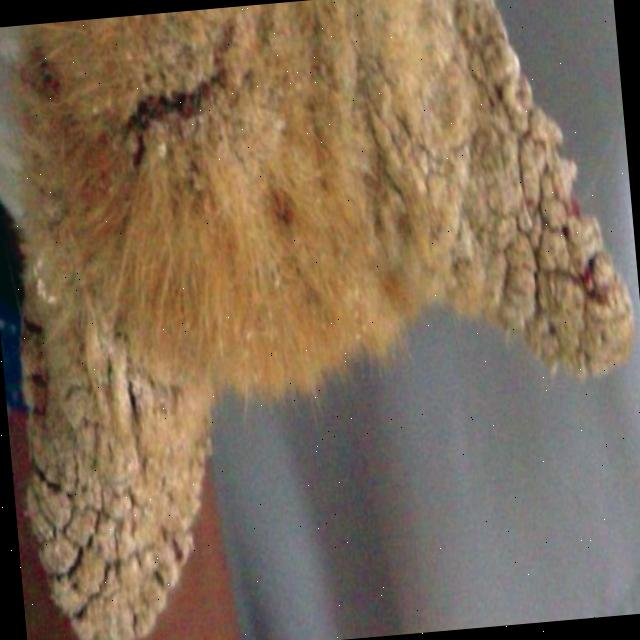cat-scabies: (37, 319, 195, 640), (440, 73, 604, 378)
